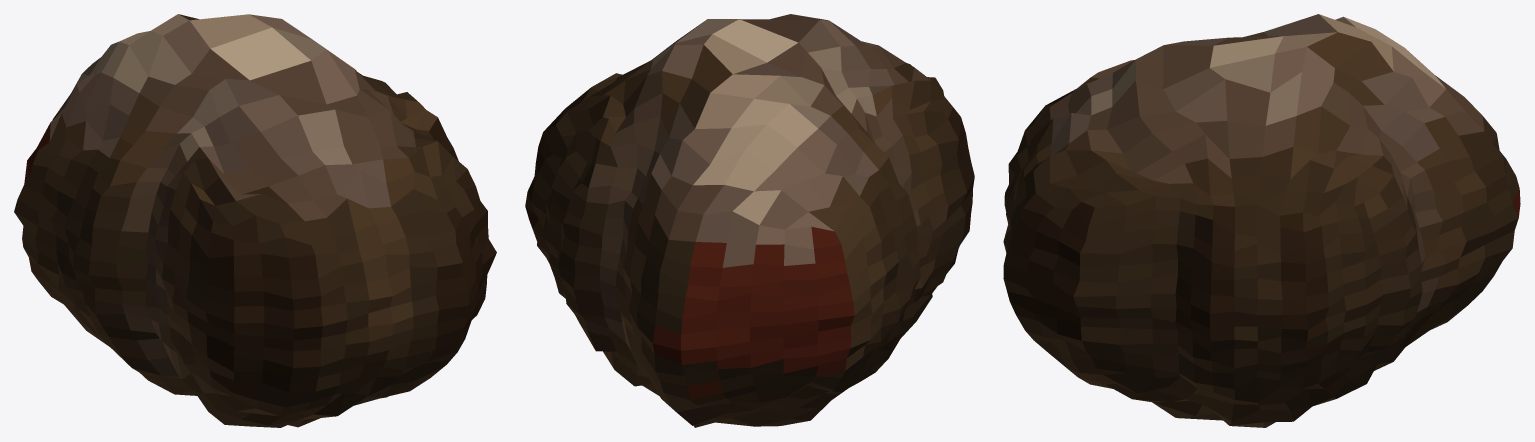
The model's file is newshr-171.glb.
3 renders of one model, left to right at view 1: azimuth 30°, elevation 25°; view 2: azimuth 150°, elevation 25°; view 3: azimuth 270°, elevation 25°, orthographic. The views are drawn at different scales.
Visible parts, largest first — view 1: newshr-171; view 2: newshr-171; view 3: newshr-171.
Boxes of the visible parts, <box> form: newshr-171: <box>14,14,496,427</box>; newshr-171: <box>525,14,974,427</box>; newshr-171: <box>1003,14,1520,427</box>.
Size of the model in its own units: 0.7352 by 0.7006 by 0.9048.
